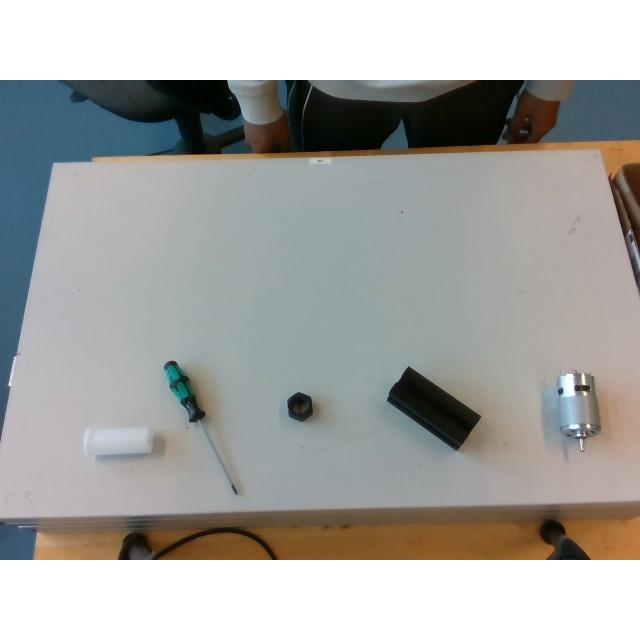M20: (288, 392, 312, 421)
Motor2: (556, 370, 600, 450)
S40_40_B: (388, 366, 480, 450)
Screwdriver: (162, 360, 238, 494)
Spacer: (84, 426, 156, 458)
